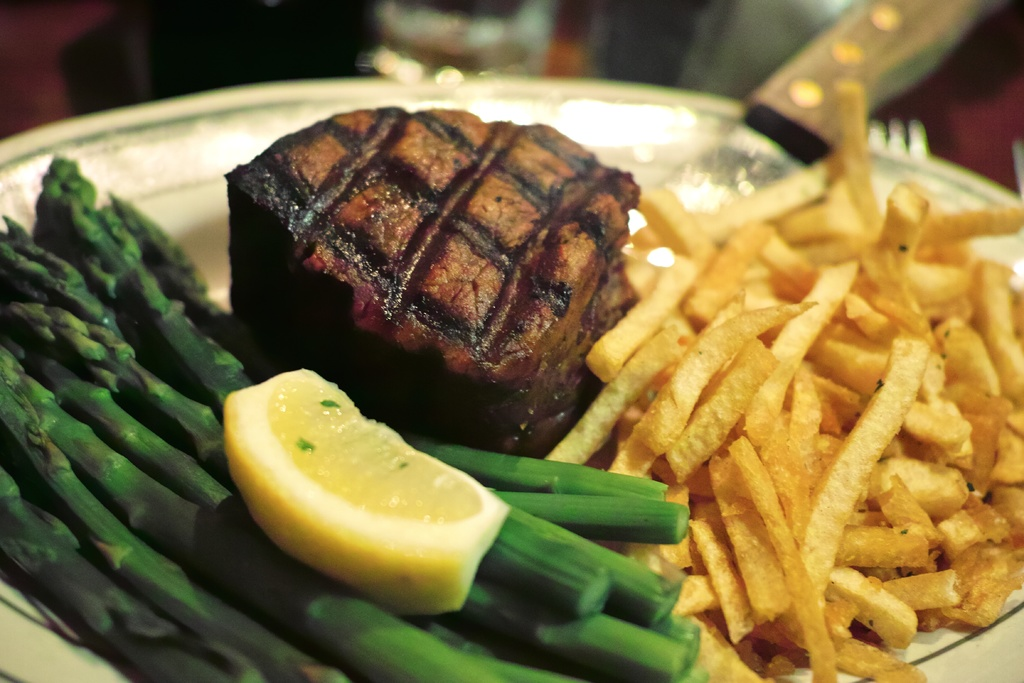French fries: (524, 119, 1013, 679)
